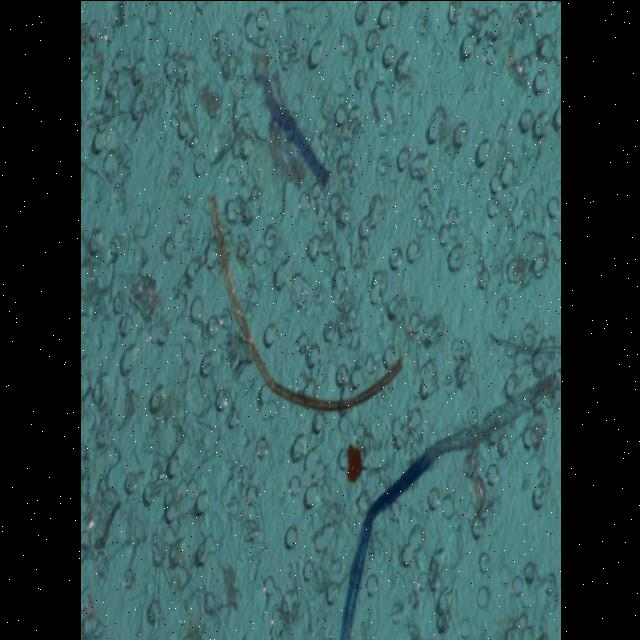Fibre: (338, 360, 560, 640), (195, 192, 405, 418), (242, 56, 332, 188), (343, 440, 365, 490)
